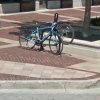Bicycle: (13, 13, 80, 64)
